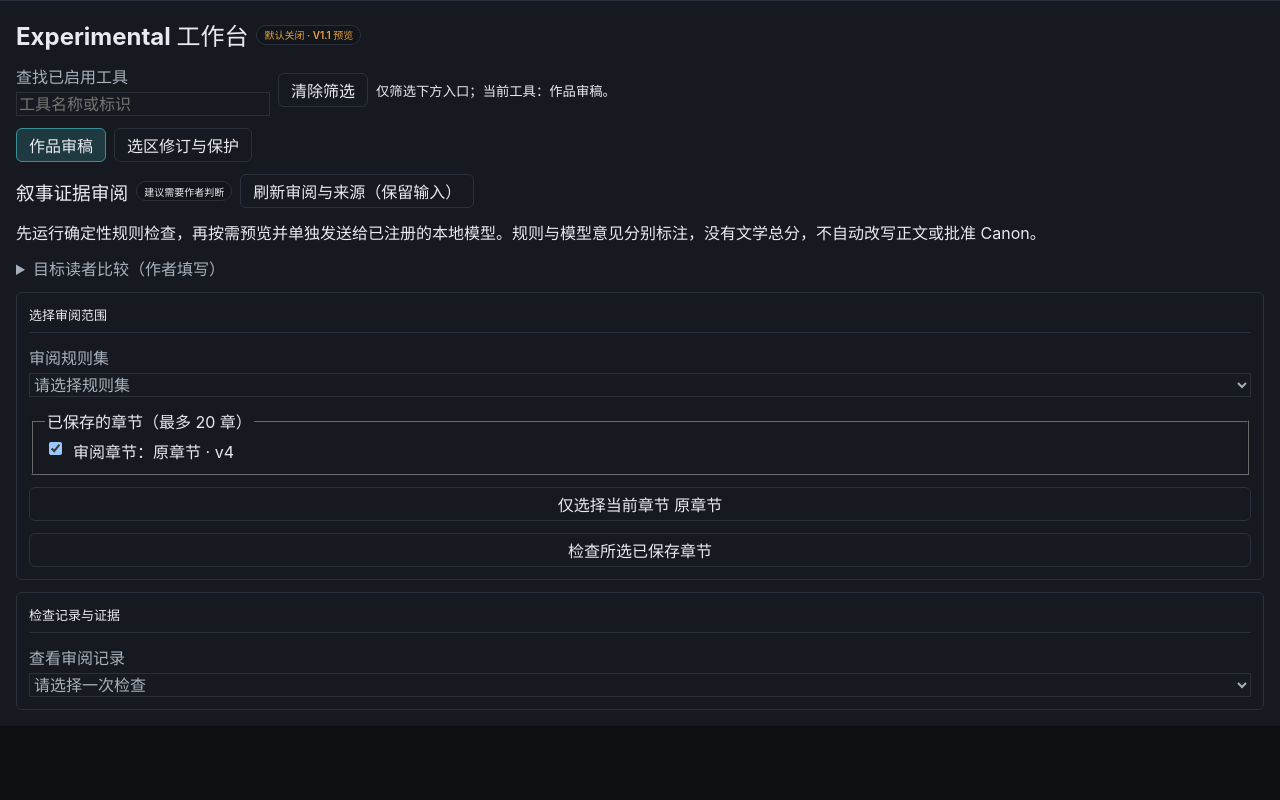
blocks an evidence version change on the receiving reread without a selection or proposal
Select "检查 1 · r" in the dropdown labelled "查看审阅记录" at (640, 685), box [29, 673, 1251, 697]
(page scrolled)
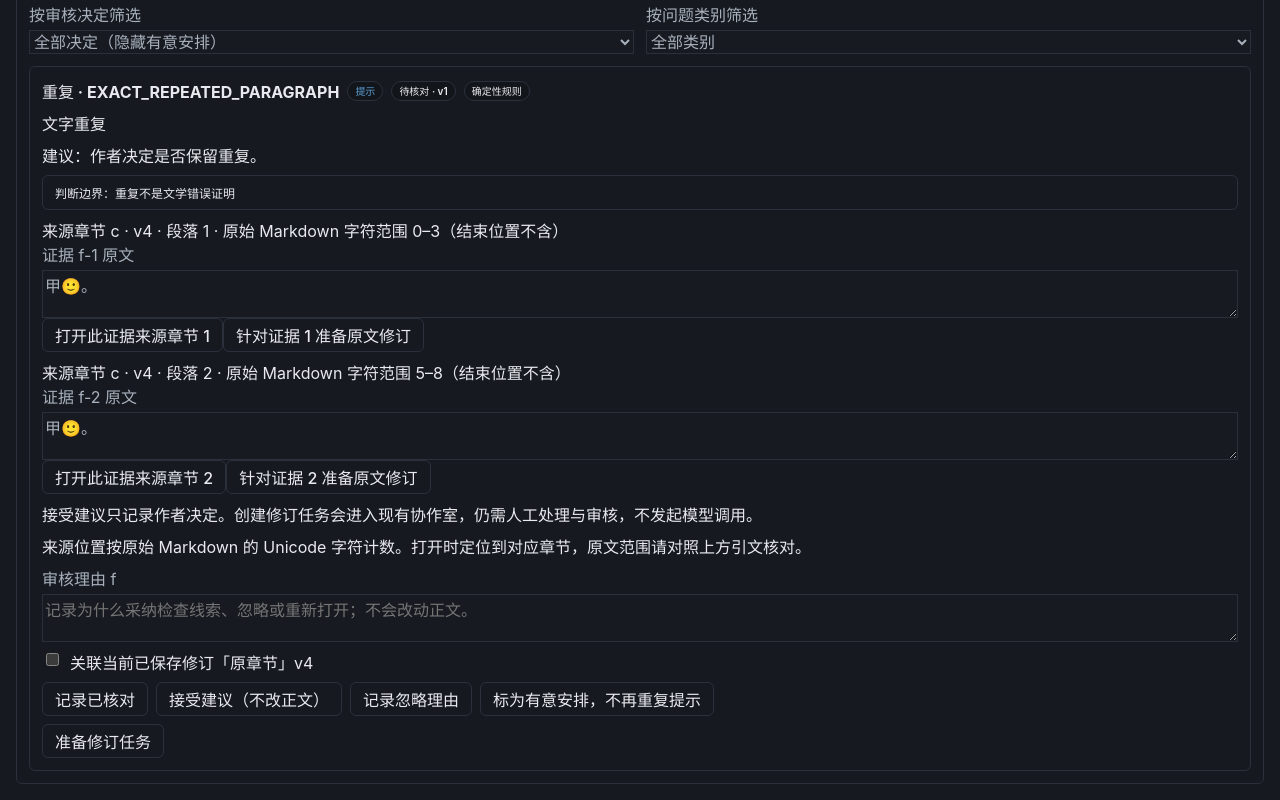
Expected: the button "针对证据 2 准备原文修订" is shown
Click the button "针对证据 2 准备原文修订" at (328, 477), box [226, 460, 430, 494]
(page scrolled)
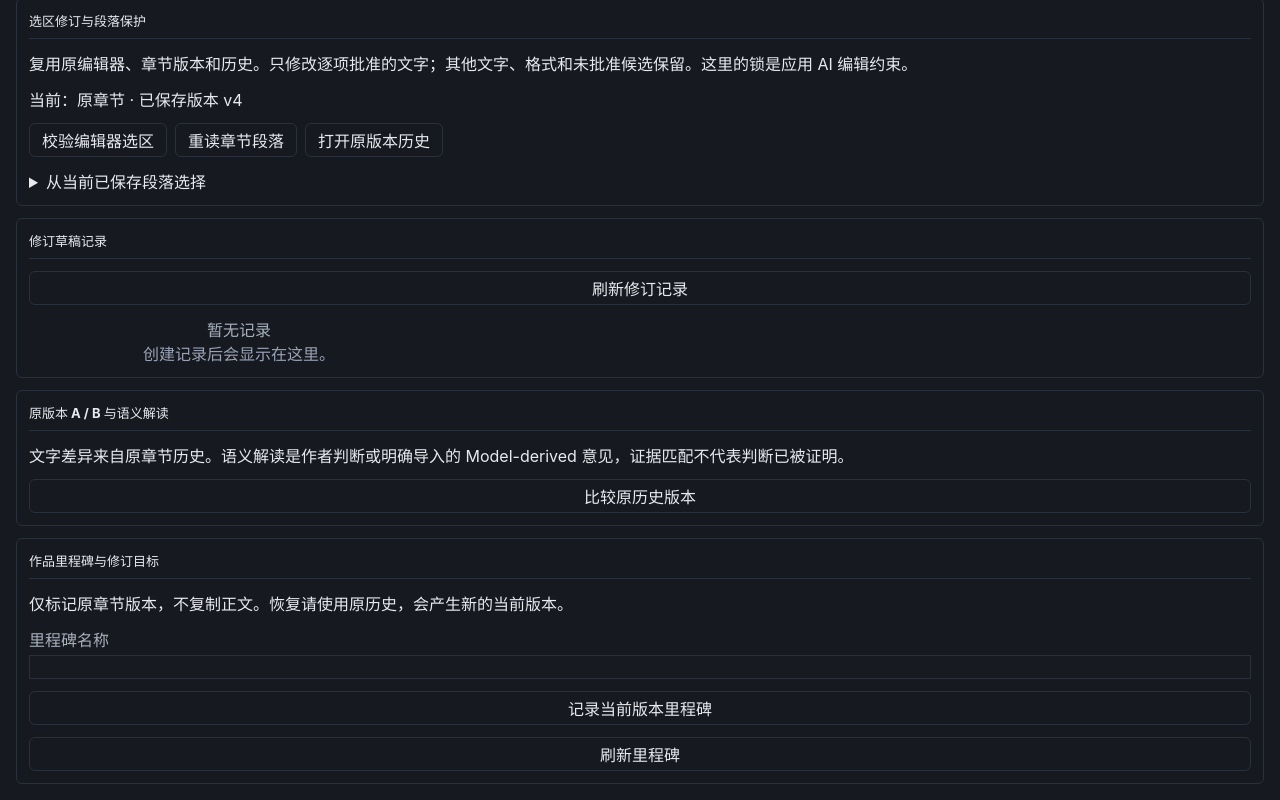
Click the heading "从当前已保存段落选择" at (126, 182), box [46, 172, 206, 192]
(page scrolled)
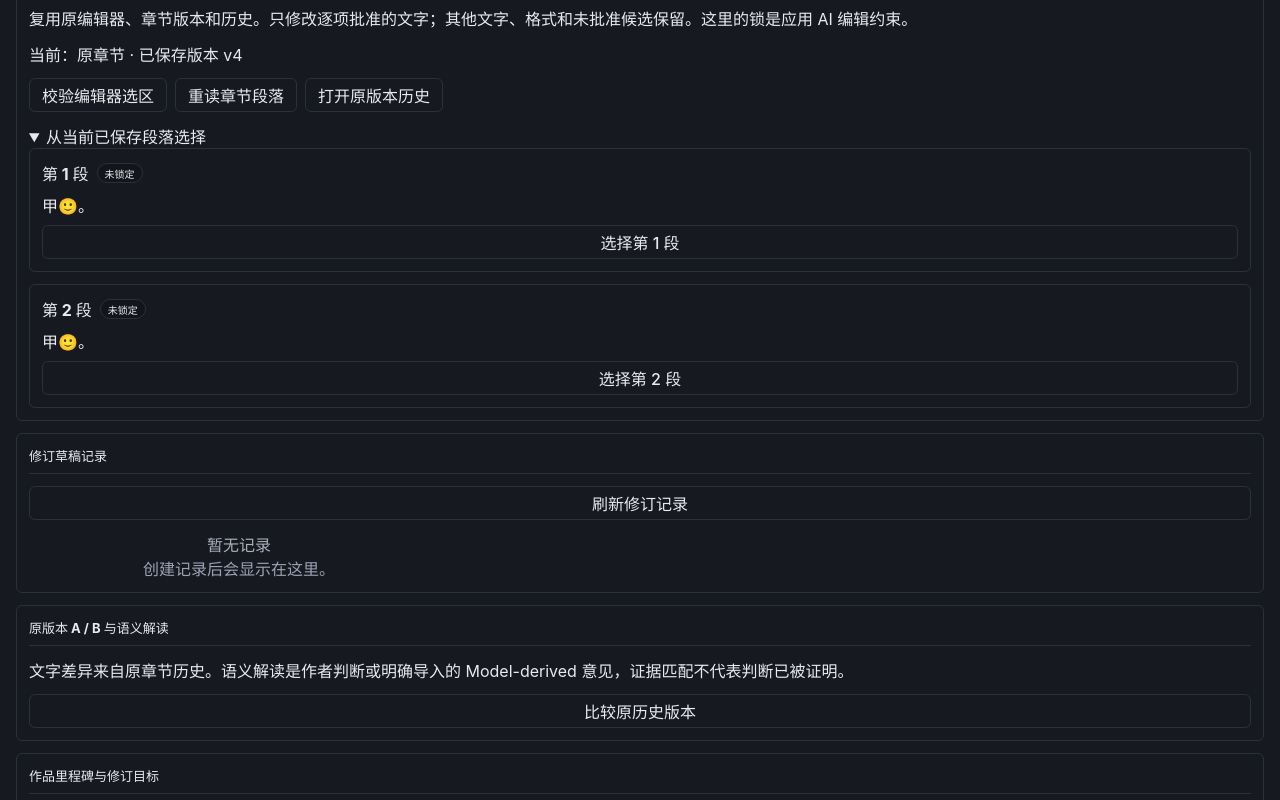
Expected: the button "选择第 2 段" is disabled, [42, 361, 1238, 395]
